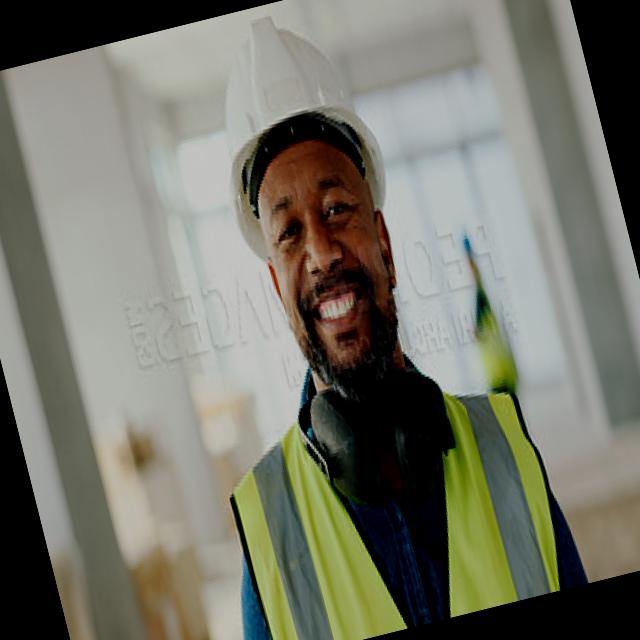helmet: (188, 0, 390, 219)
no-goggles: (244, 165, 393, 270)
vest: (212, 359, 576, 640)
